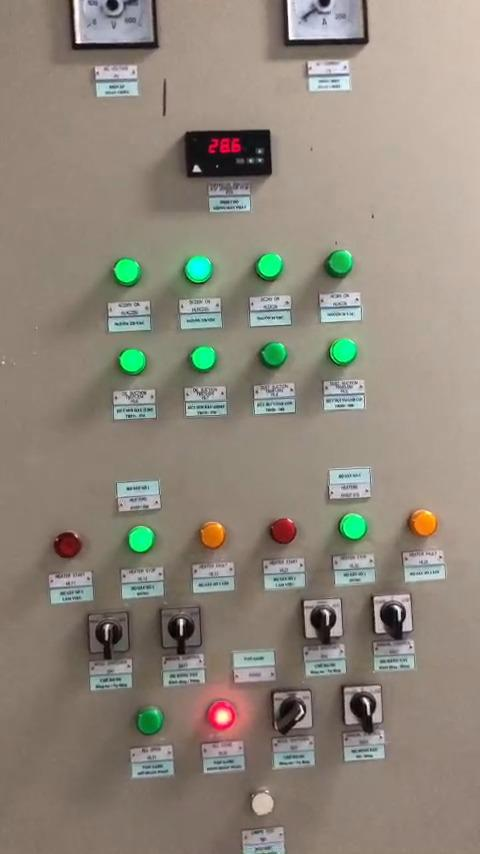led: (254, 249, 289, 283), (52, 529, 85, 561), (205, 699, 236, 731), (133, 705, 165, 736), (113, 255, 144, 286), (409, 506, 439, 538), (338, 514, 370, 544), (267, 515, 296, 548), (325, 248, 356, 278), (199, 519, 229, 549), (189, 345, 219, 374), (127, 524, 156, 554), (185, 256, 214, 285), (329, 339, 358, 368), (260, 343, 290, 371), (118, 348, 147, 376), (249, 790, 275, 816)
twist: (87, 610, 132, 660), (158, 606, 204, 654), (302, 598, 345, 645), (370, 591, 411, 636), (273, 689, 313, 733), (344, 684, 384, 726)
